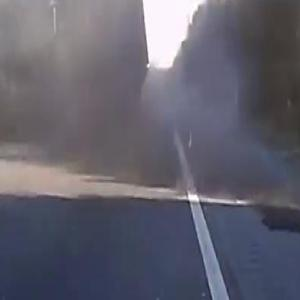serious: (0, 0, 156, 139)
